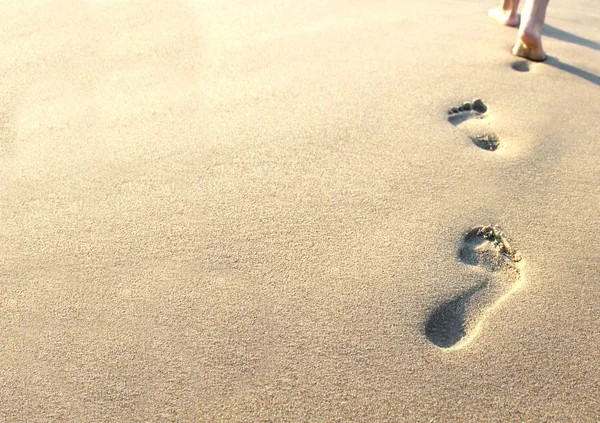human_foot_print: (423, 214, 523, 361), (442, 92, 510, 163)
